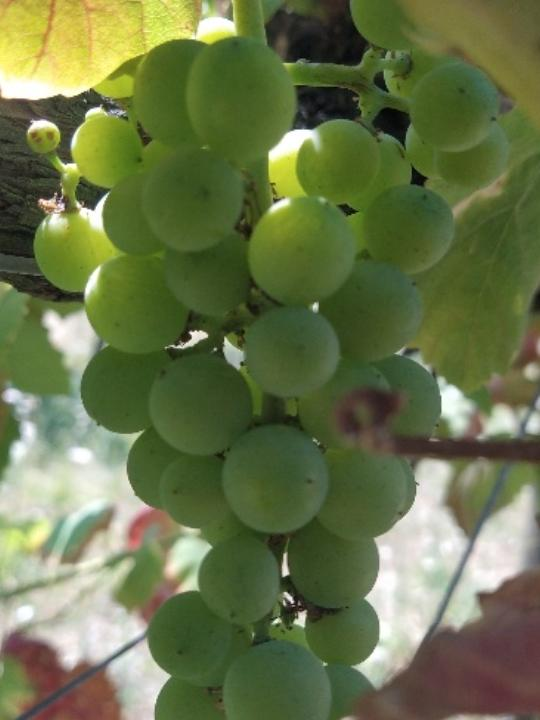grape: (22, 0, 508, 720)
